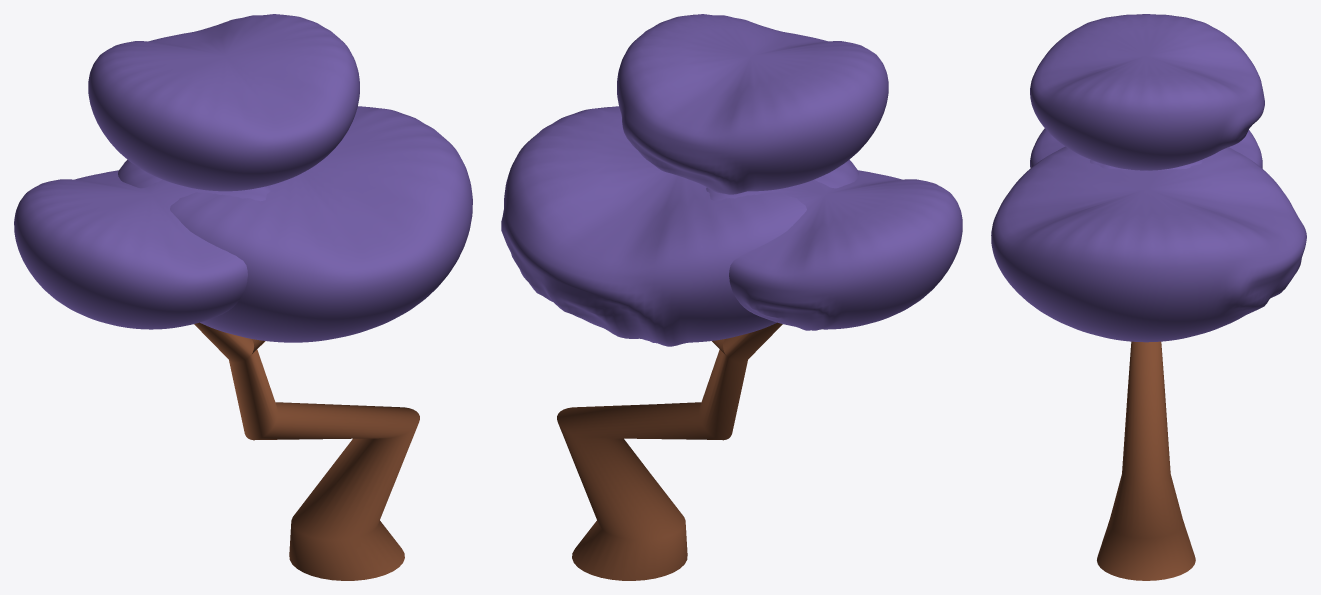
The model's file is purpleFlower.fbx.
3 views of the same model, side by side, from view 1: azimuth 30°, elevation 25°; view 2: azimuth 150°, elevation 25°; view 3: azimuth 270°, elevation 25° (orthographic). The views are drawn at different scales.
Parts seen in each view (by area): view 1: Circle.001, Circle.002, Circle.003, Circle; view 2: Circle.001, Circle.002, Circle.003, Circle; view 3: Circle.001, Circle.002, Circle, Circle.003.
Part boxes in pixels (x1,y1,x2,y2): Circle.001: (118, 106, 472, 342); Circle.002: (88, 14, 359, 191); Circle.003: (14, 170, 270, 329); Circle: (194, 322, 419, 580); Circle.001: (501, 106, 858, 346); Circle.002: (617, 14, 888, 194); Circle.003: (706, 170, 962, 330); Circle: (557, 322, 782, 580); Circle.001: (991, 146, 1306, 342); Circle.002: (1030, 14, 1264, 170); Circle: (1097, 341, 1195, 580); Circle.003: (1030, 128, 1262, 171).
Size of the model in its own units: 50.76 by 62.41 by 38.98.
